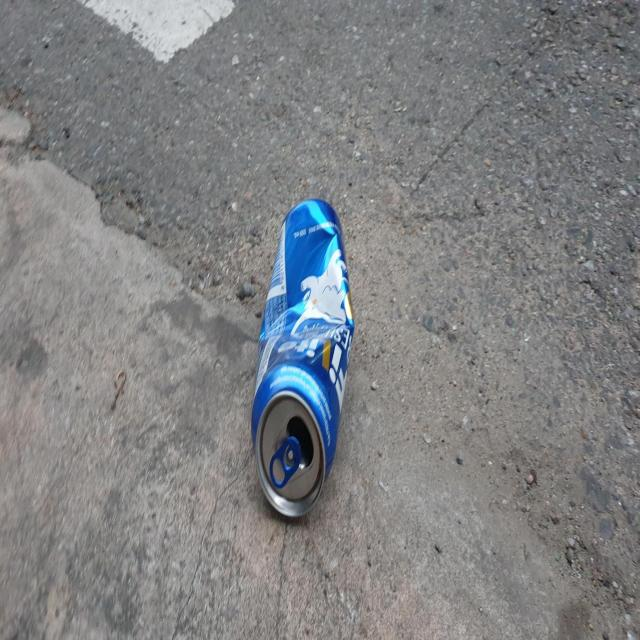can: (251, 198, 354, 516)
